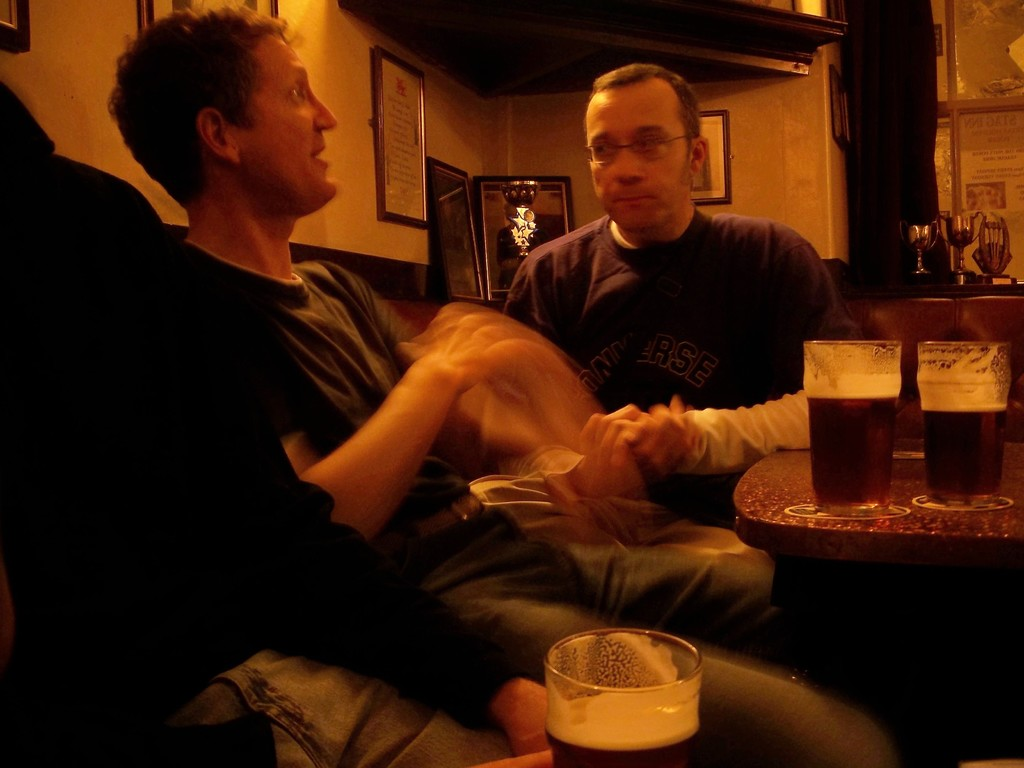Beer: (790, 323, 894, 536), (902, 333, 1006, 508)
